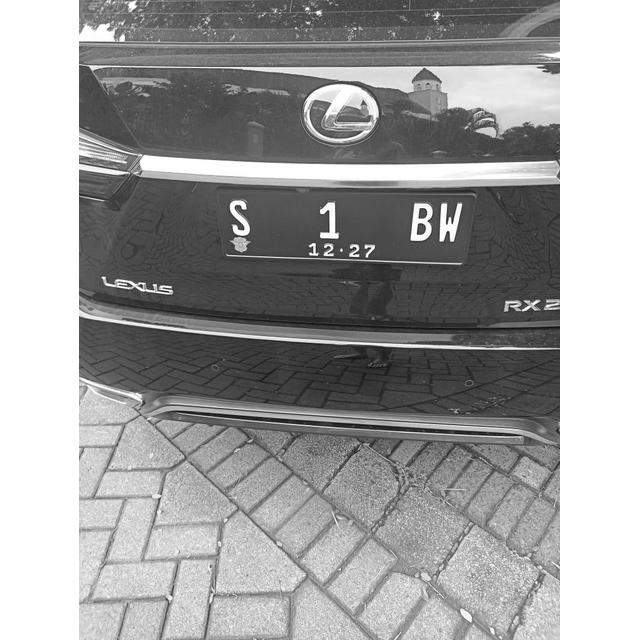license: (223, 194, 469, 264)
